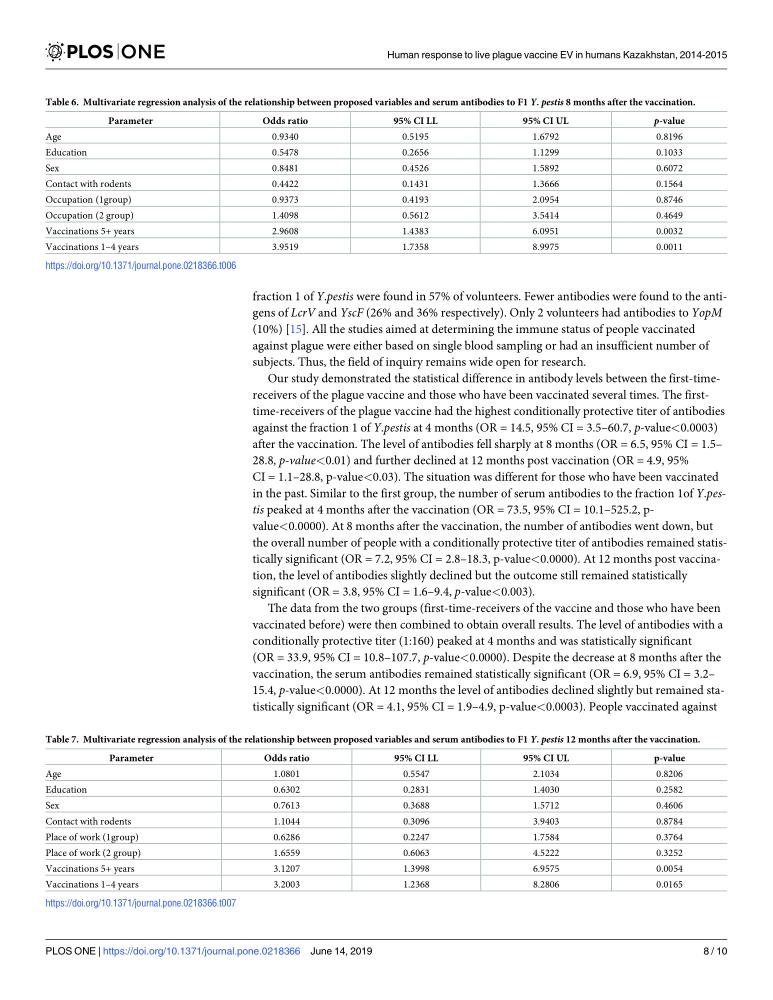table: (45, 114, 684, 252), (45, 753, 684, 890)
